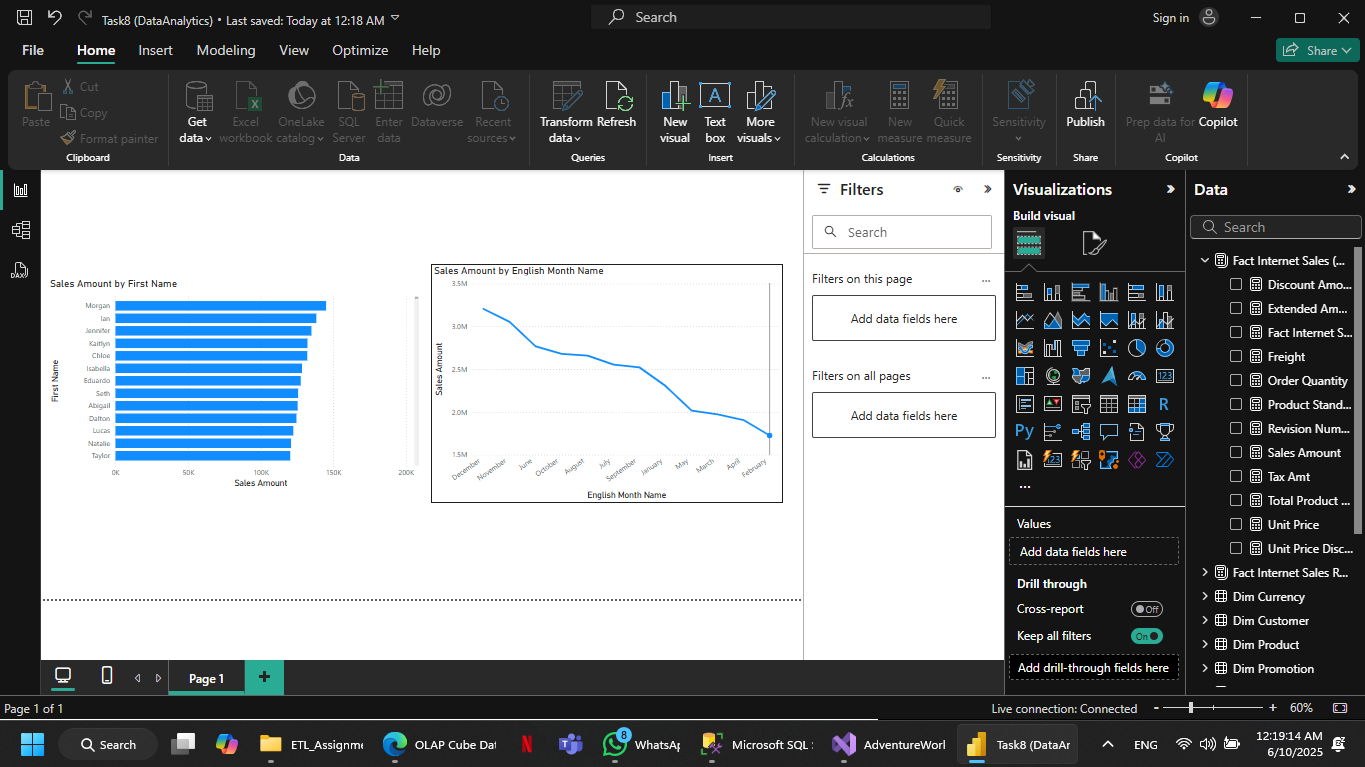

This screenshot's page, from the dashboard's own definition file:
{"tool":"powerbi","page":{"name":"Page 1","canvas":[1280,720],"ordinal":0},"visuals":[{"type":"barChart","fields":{"Category":["Dim Customer.First Name"],"Y":["Fact Internet Sales (Measures).Sales Amount"]},"box":[10.1,179.7,629.9,359.5],"z":0},{"type":"lineChart","fields":{"Category":["Due Date.English Month Name"],"Y":["Fact Internet Sales (Measures).Sales Amount"]},"box":[655.1,157.9,591.3,401.5],"z":1}]}

Visuals, with their boxes on the page's 1280x720 design canvas (x1, y1, x2, y2). These are canvas units, not pixel positions in the 1365x767 screenshot, which may show the page scaled, cropped or inside an application window:
barChart - Dim Customer.First Name x Fact Internet Sales (Measures).Sales Amount: detection(10, 180, 640, 539)
lineChart - Due Date.English Month Name x Fact Internet Sales (Measures).Sales Amount: detection(655, 158, 1246, 559)
